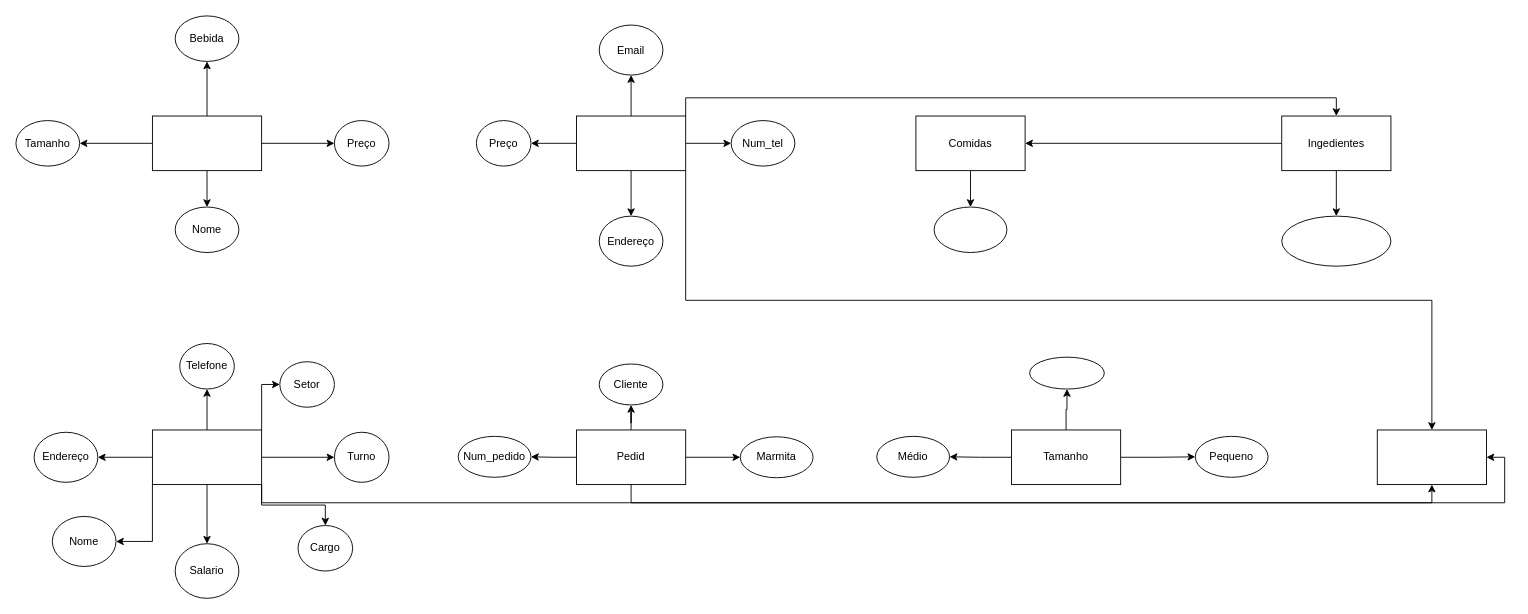
The diagram is 1528 pixels wide and 614 high, and some of its shapes have lost their labels. Each missing label, with the centre of its shape:
"Fornecedor" goes at pixel 631 143.
"Funcionario" goes at pixel 207 457.
"Grande" goes at pixel 1066 372.
"Lançamento" goes at pixel 1431 457.
"Produto" goes at pixel 207 143.
"quant_ingredientes" goes at pixel 1336 240.
"Receitas" goes at pixel 970 229.
